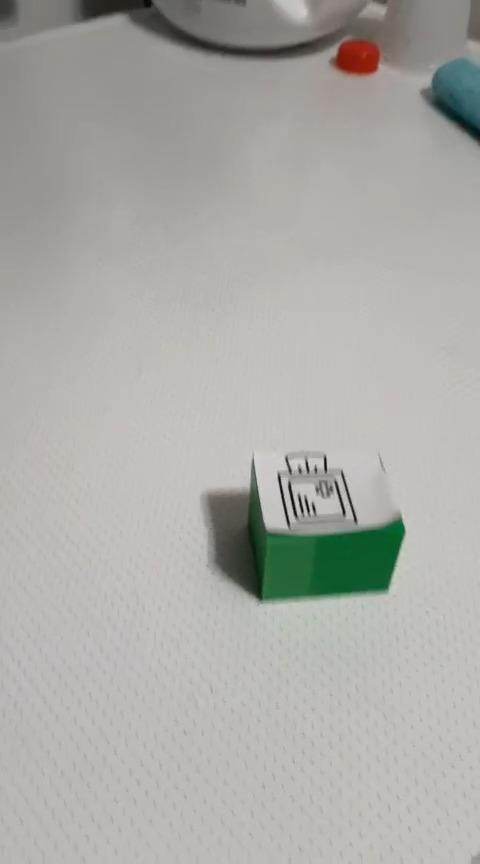Gauze: (246, 446, 405, 602)
